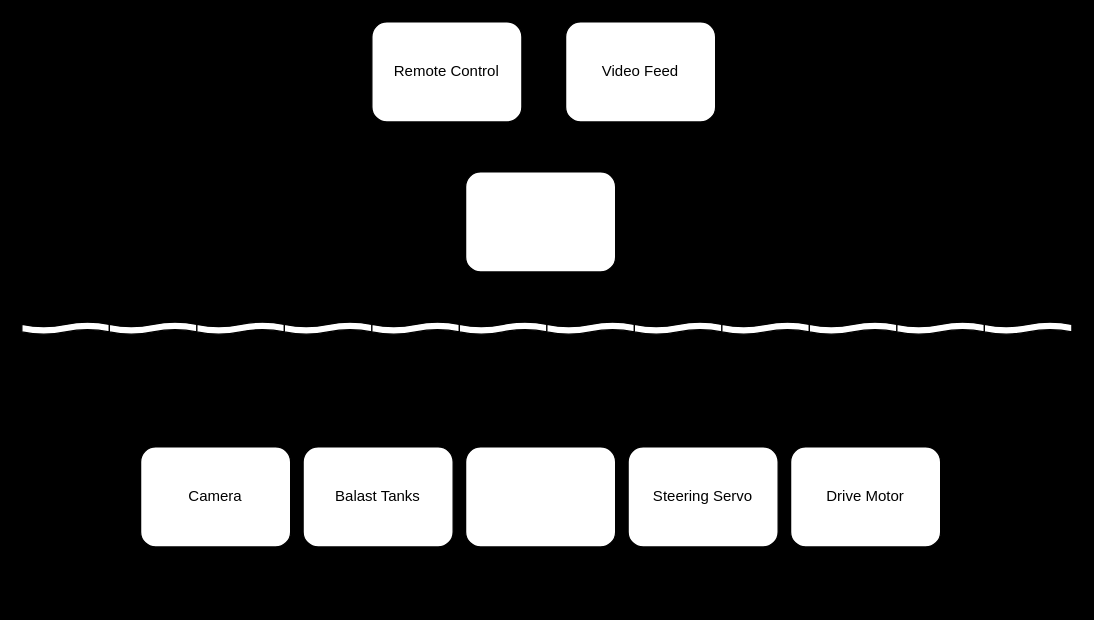
Image size: 1094x620. Some labels were removed from this diagram. Each missing label, with the centre of its shape:
Buoy Radio/Wifi: pixel 540 221
Microcontroller: pixel 540 496
